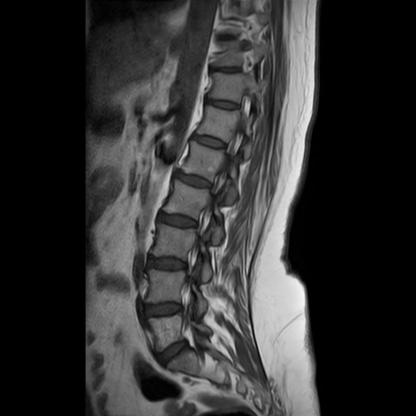Degenerative Disc Diseaserotation: (168, 169, 218, 192)
Disc Bulgerotation: (136, 297, 186, 329)
